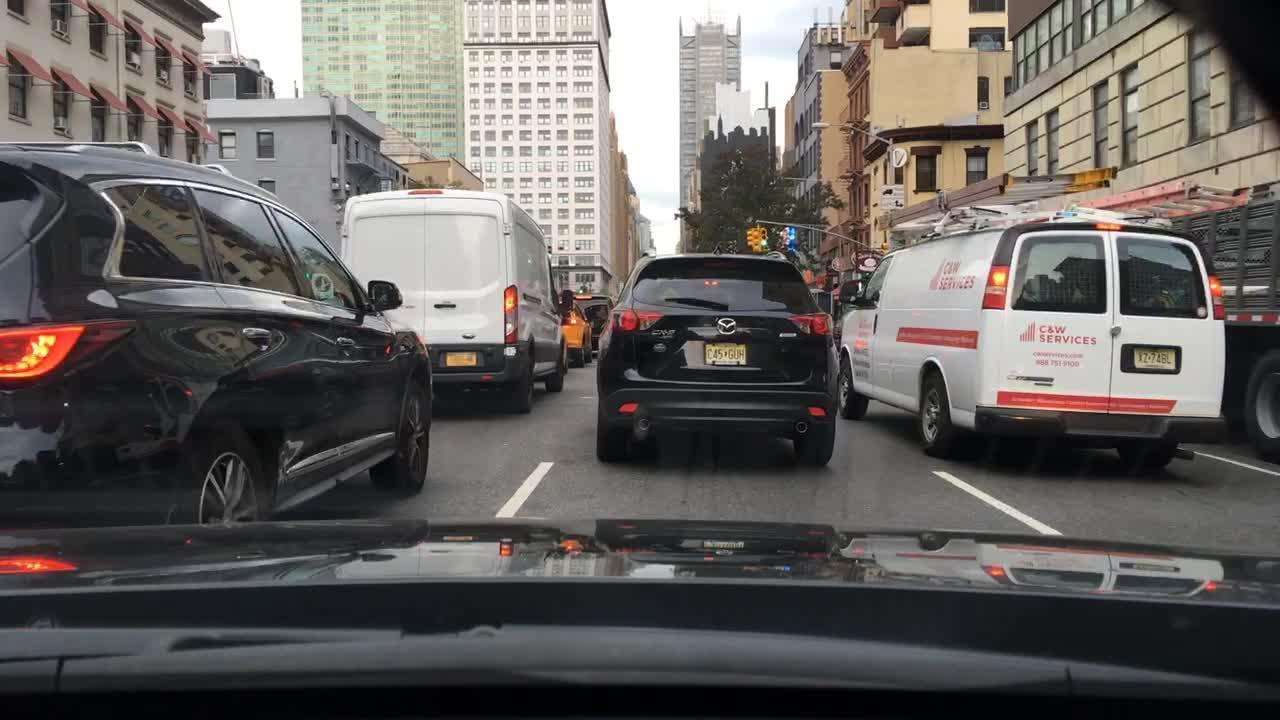Mazda: (709, 312, 743, 340)
